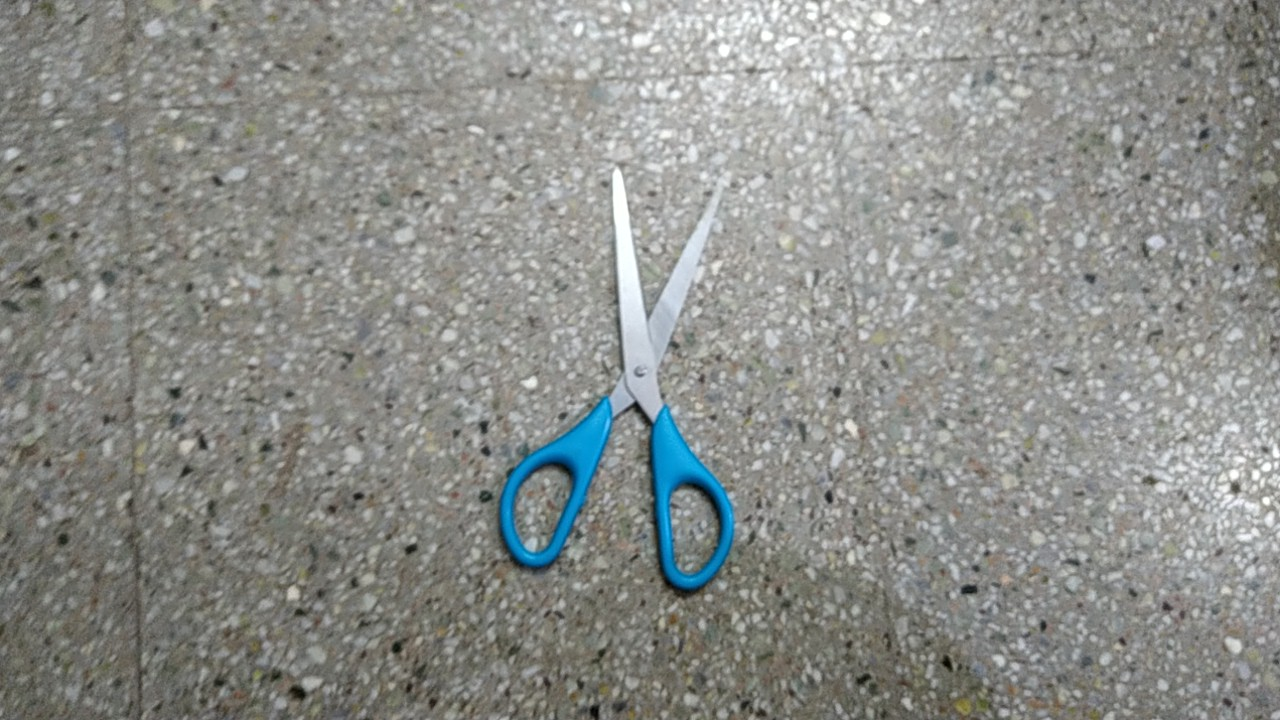scissor: (479, 153, 759, 614)
